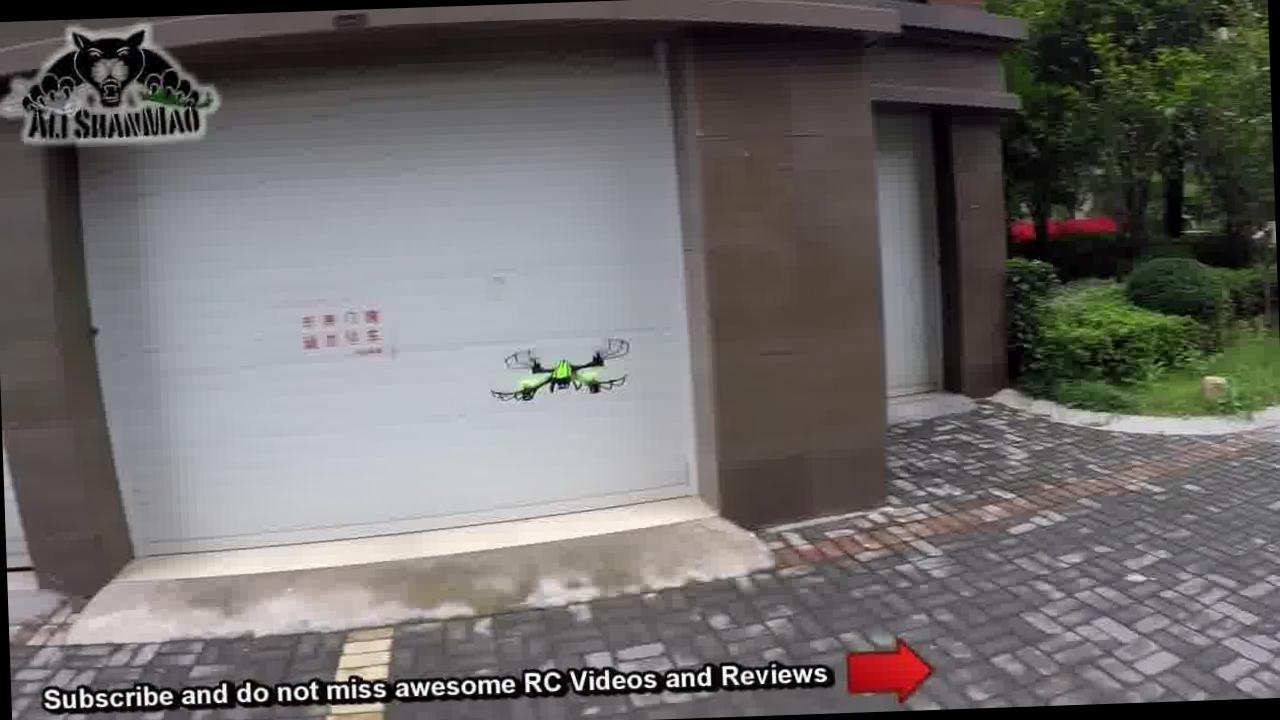drone: (484, 339, 640, 415)
